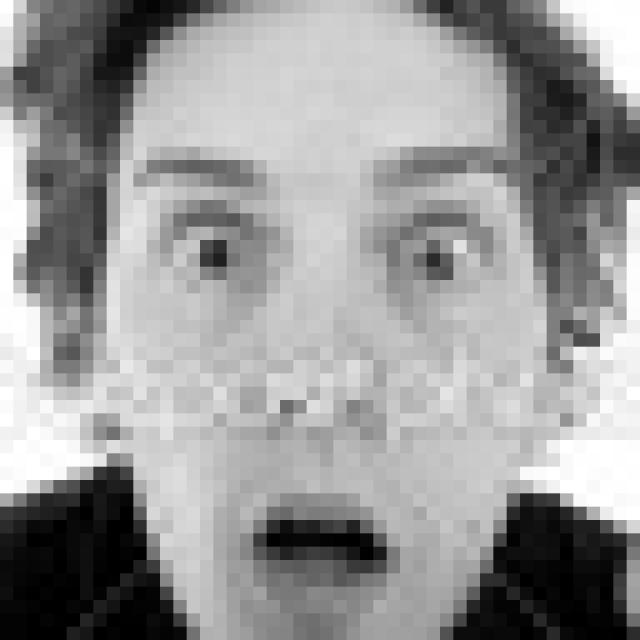surprise: (124, 135, 526, 640)
